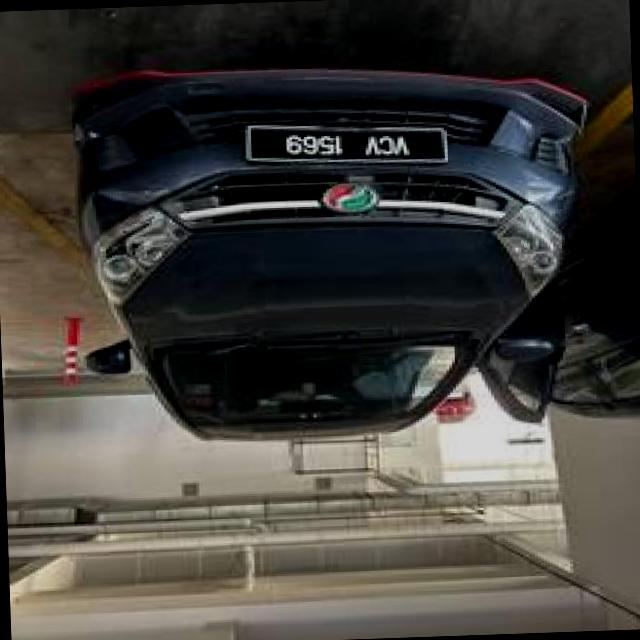PeroduaAxia: (68, 54, 601, 450)
